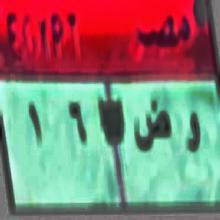1: (27, 97, 45, 152)
6: (68, 94, 88, 154)
daad: (132, 97, 173, 158)
waw: (184, 105, 202, 164)
